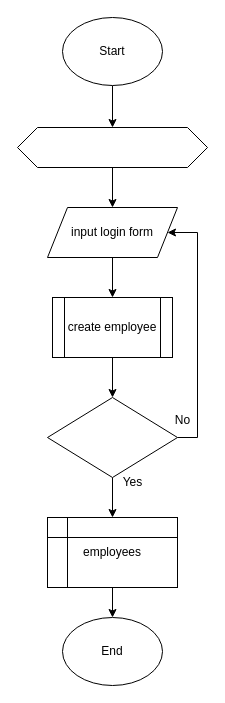
Image size: 225x703. Some labels were removed from this diagram. The shapes that lost their labels are listed below. From the top down, each one's centre as x and y in pixels, then its label:
[112,147]: string employee
[112,437]: validated?
